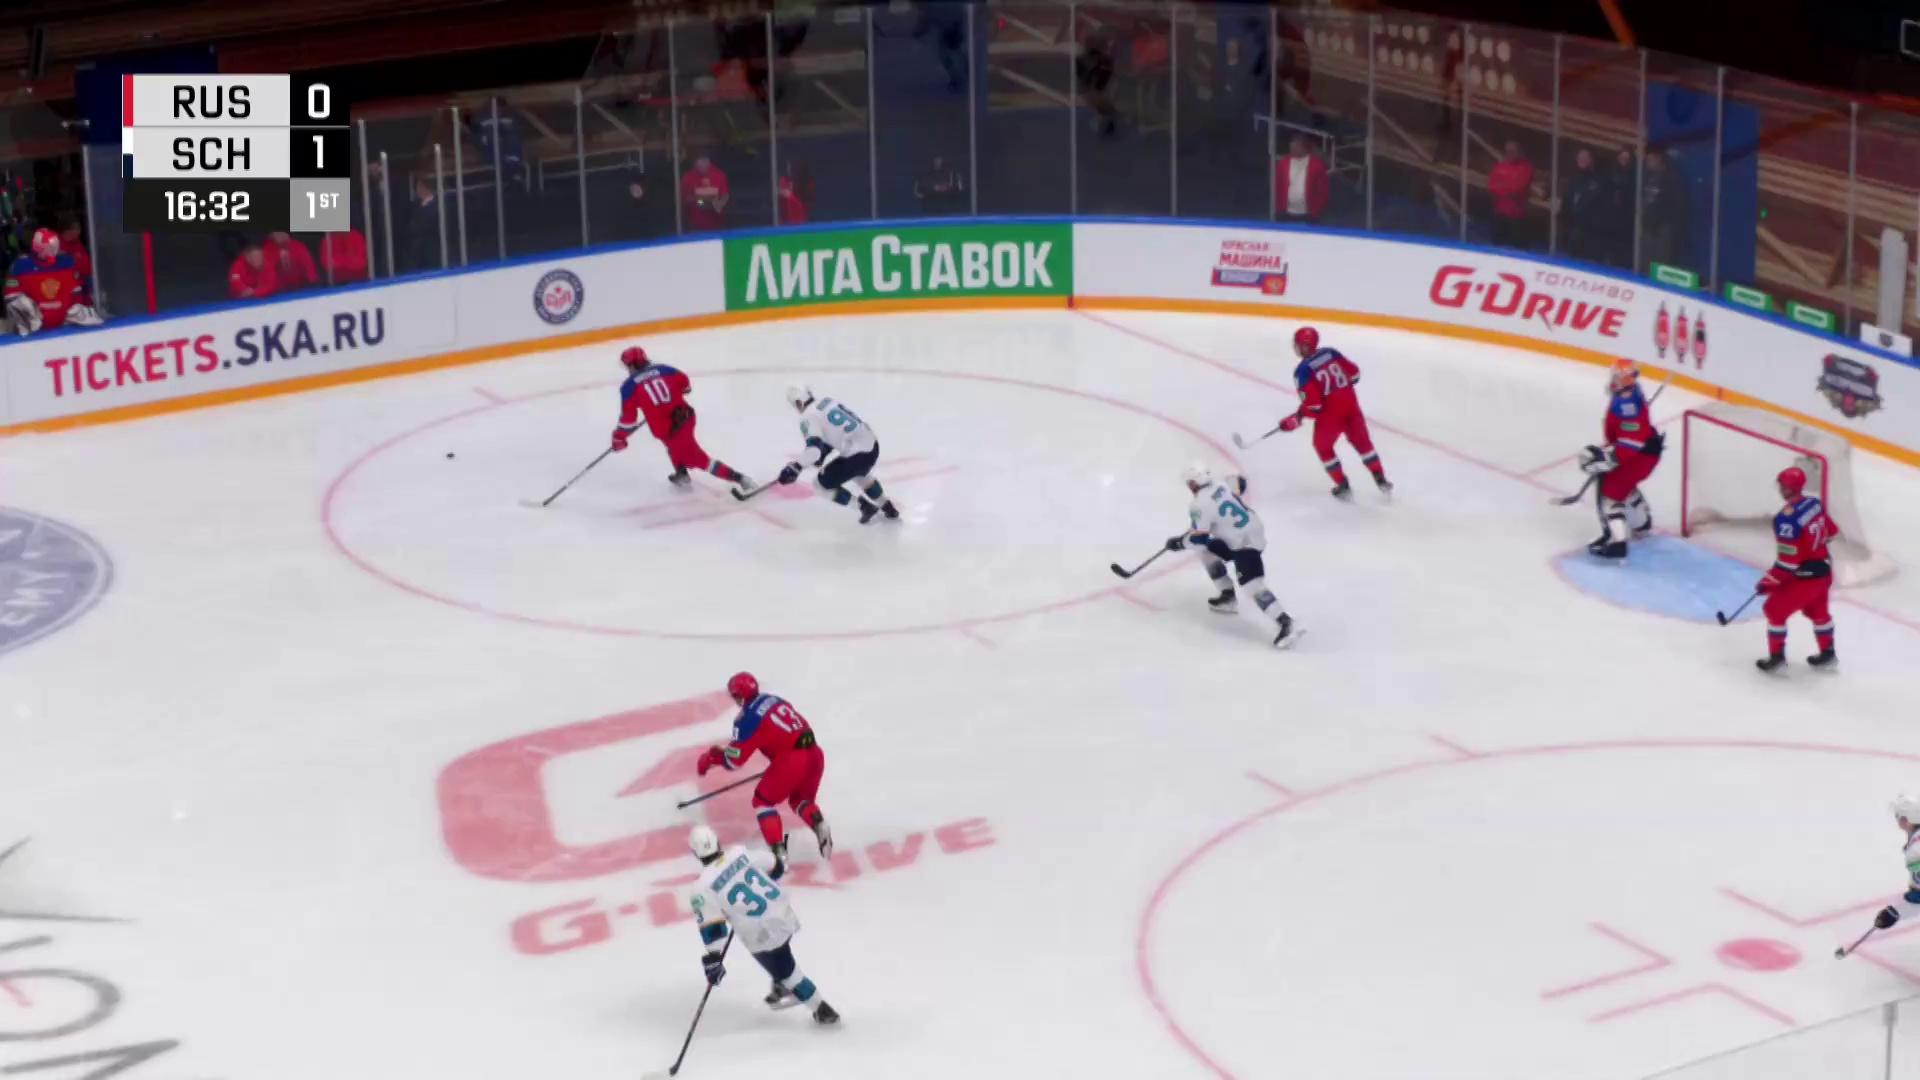ball: (446, 452, 456, 460)
